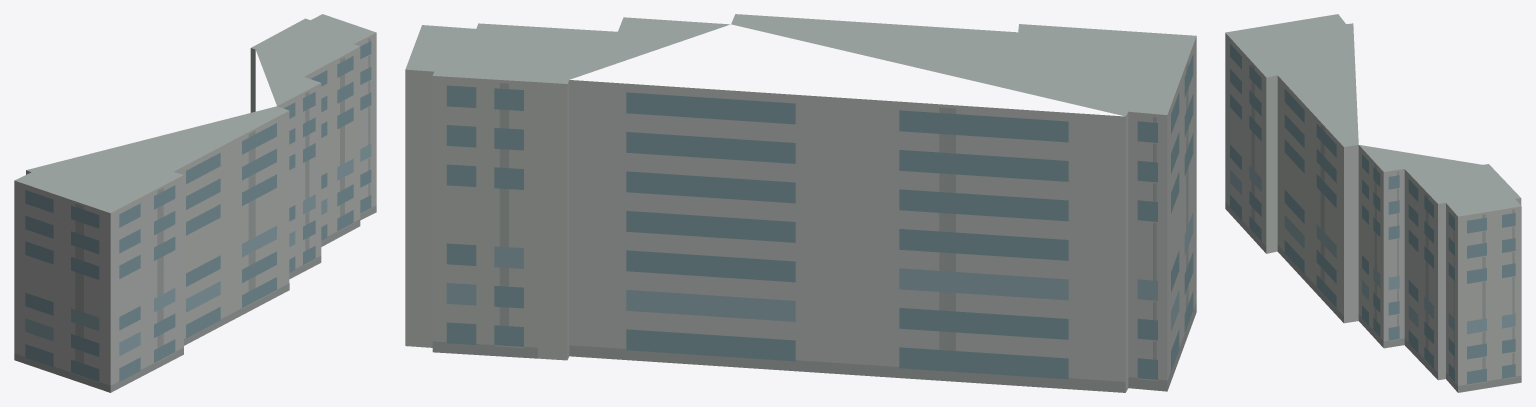
The model's file is survey-upis-33017122.glb.
The picture shows the model from 3 angles, left to right: view 1: azimuth 30°, elevation 25°; view 2: azimuth 150°, elevation 25°; view 3: azimuth 270°, elevation 25°; orthographic projection. The views are drawn at different scales.
Visible parts, largest first — view 1: survey-upis-33017122.tmp; view 2: survey-upis-33017122.tmp; view 3: survey-upis-33017122.tmp.
Part boxes in pixels (x1=…): survey-upis-33017122.tmp: x1=14, y1=14, x2=376, y2=392; survey-upis-33017122.tmp: x1=405, y1=14, x2=1196, y2=392; survey-upis-33017122.tmp: x1=1225, y1=14, x2=1521, y2=392.
Size of the model in its own units: 52.66 by 21.35 by 32.56.
